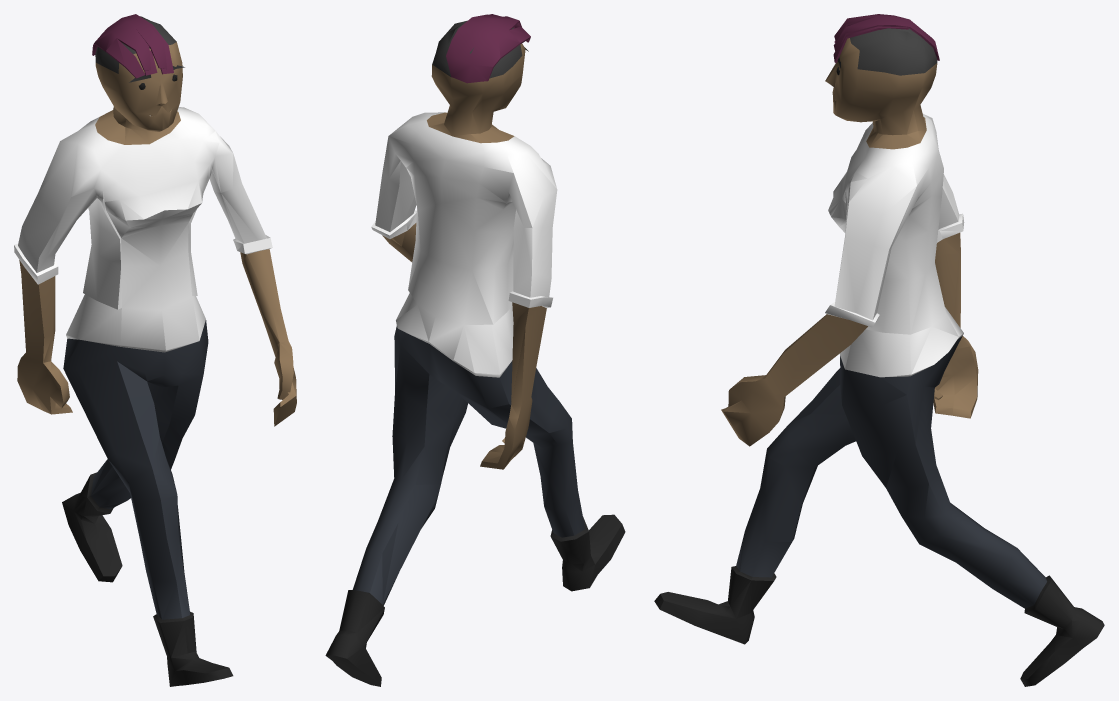
File: person-walk-b.glb
The picture shows the model from 3 angles, left to right: view 1: azimuth 30°, elevation 25°; view 2: azimuth 150°, elevation 25°; view 3: azimuth 270°, elevation 25°; orthographic projection. The views are drawn at different scales.
Parts seen in each view (by area): view 1: lod0; view 2: lod0; view 3: lod0.
Part boxes in pixels (bbox=[...]): lod0: bbox=[14, 14, 296, 686]; lod0: bbox=[325, 14, 625, 686]; lod0: bbox=[654, 14, 1104, 686].
Size of what is drawn, in the model's own units: 0.5602 by 1.64 by 1.04.
